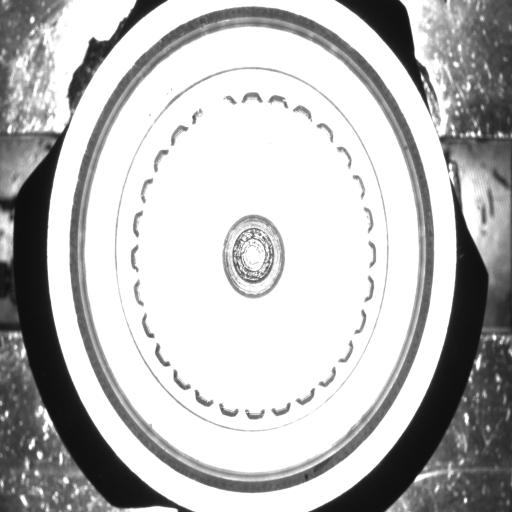gear: (124, 83, 384, 426)
